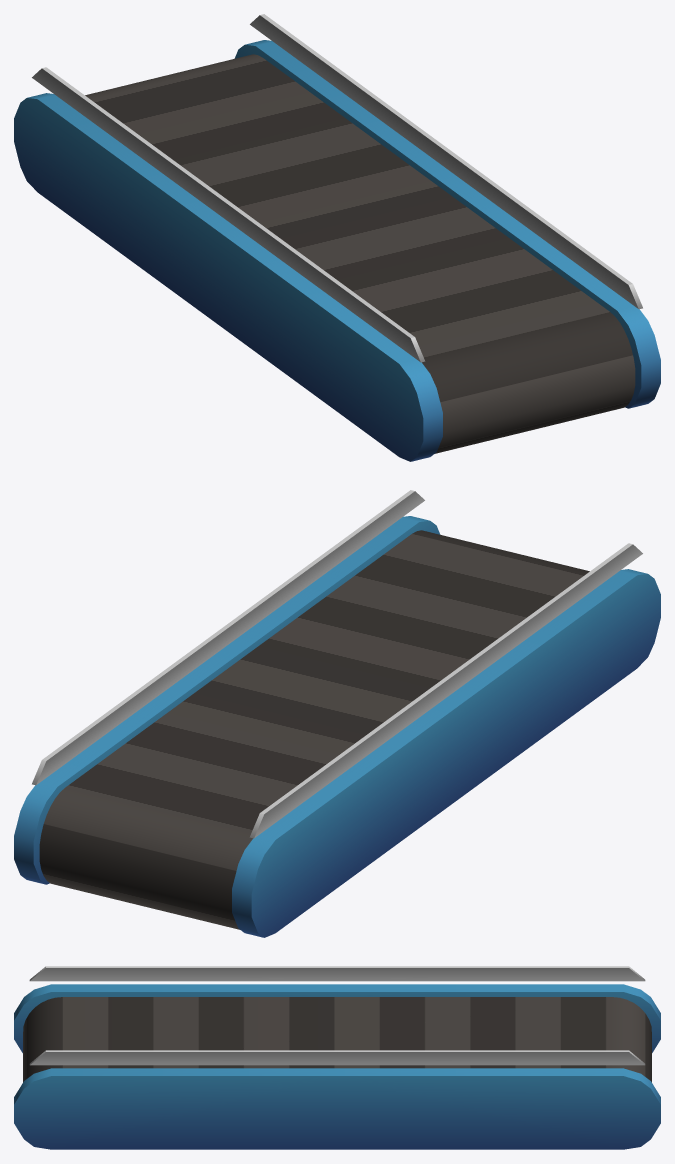
File: BeltAndFrame2.fbx
The picture shows the model from 3 angles, top to bottom: view 1: azimuth 30°, elevation 25°; view 2: azimuth 150°, elevation 25°; view 3: azimuth 270°, elevation 25°; orthographic projection. The views are drawn at different scales.
Visible parts, largest first — view 1: Belt, Frame; view 2: Belt, Frame; view 3: Frame, Belt.
Part boxes in pixels (left/top/right/bottom): Belt: left=85, top=54, right=635, bottom=453; Frame: left=14, top=14, right=660, bottom=461; Belt: left=39, top=530, right=589, bottom=929; Frame: left=14, top=490, right=660, bottom=937; Frame: left=14, top=966, right=660, bottom=1149; Belt: left=23, top=997, right=651, bottom=1082.
Bounding box in the file's own units: 200 × 101 × 596.
